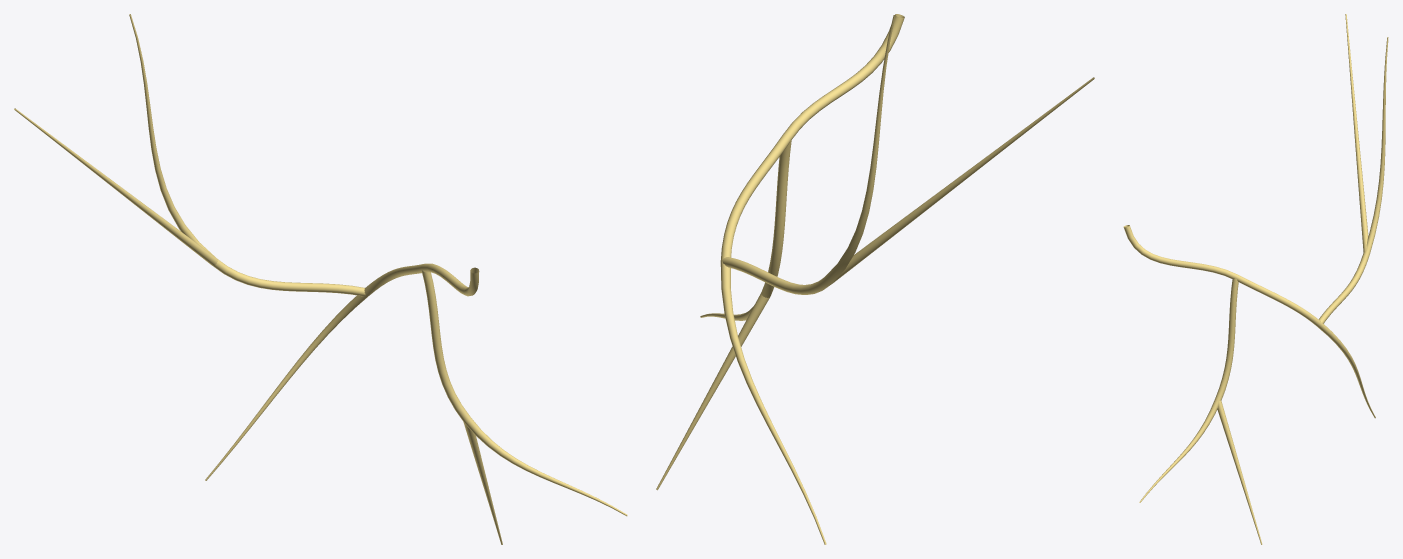
3 views of the same model, side by side, from view 1: azimuth 30°, elevation 25°; view 2: azimuth 150°, elevation 25°; view 3: azimuth 270°, elevation 25° (orthographic). The views are drawn at different scales.
Parts seen in each view (by area): view 1: ZA_25c6dcb7d09d0b22; view 2: ZA_25c6dcb7d09d0b22; view 3: ZA_25c6dcb7d09d0b22.
Boxes of the visible parts, x1=… form: ZA_25c6dcb7d09d0b22: x1=14, y1=14, x2=627, y2=544; ZA_25c6dcb7d09d0b22: x1=656, y1=14, x2=1094, y2=544; ZA_25c6dcb7d09d0b22: x1=1123, y1=14, x2=1388, y2=544.
Size of the model in its own units: 0.062 by 0.0671 by 0.04.
